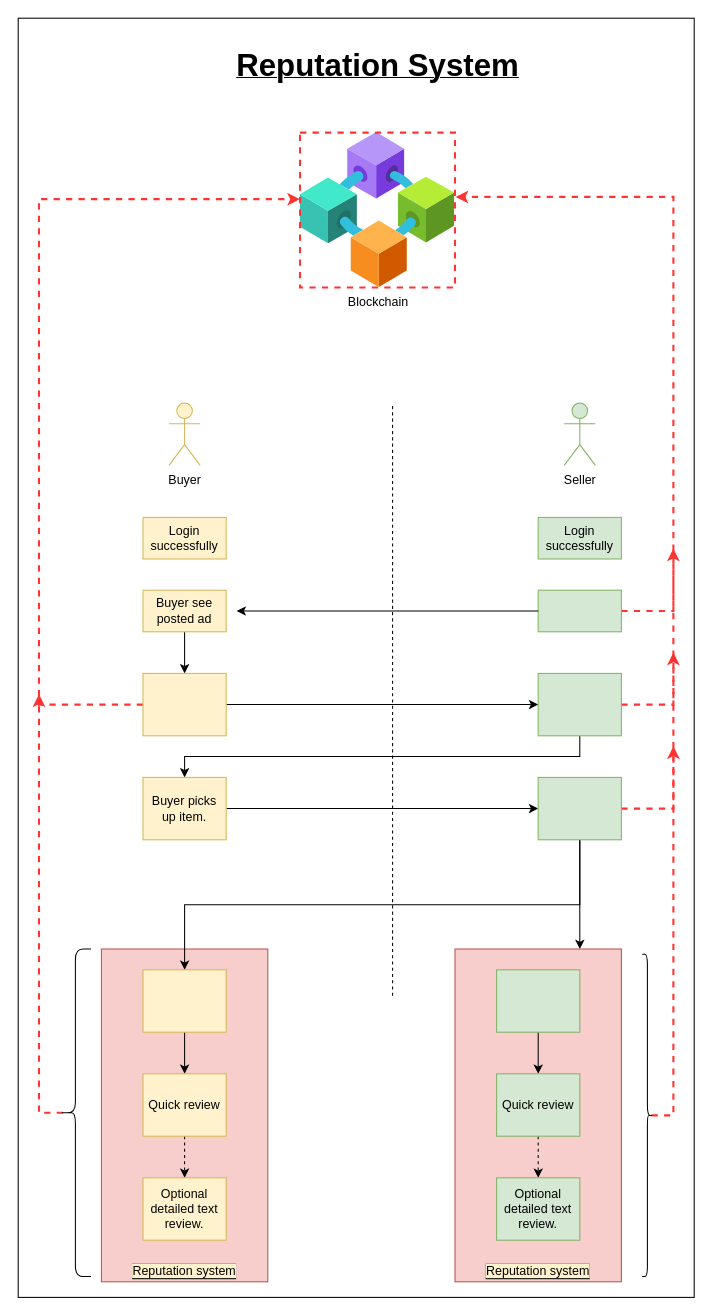
This 712x1316 diagram has some shape labels left out. The centre of each missing label's shape, as x and y in pixels:
"Buyer gets option to rate seller." belongs at pixel 184 1000.
"Buyer launches purchase request." belongs at pixel 184 704.
"Post ad" belongs at pixel 579 610.
"Seller approves purchase request." belongs at pixel 579 704.
"Seller gets to operate buyer." belongs at pixel 538 1000.
"Seller marks item as sold." belongs at pixel 579 808.
